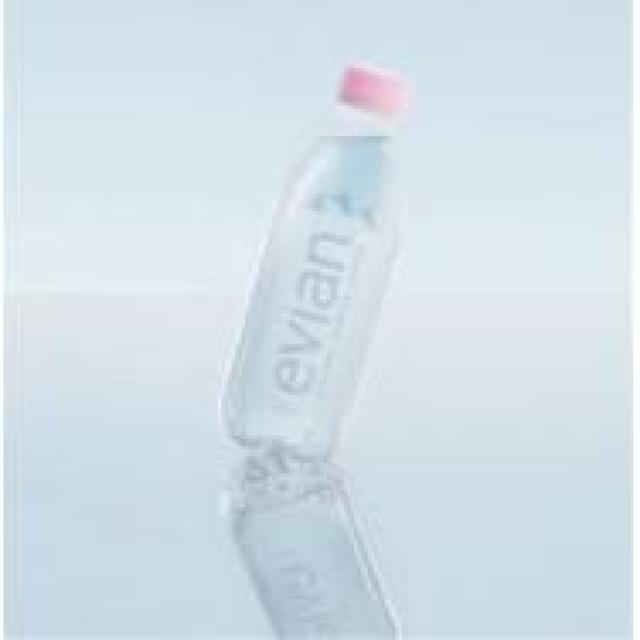bottle: (221, 46, 412, 478)
